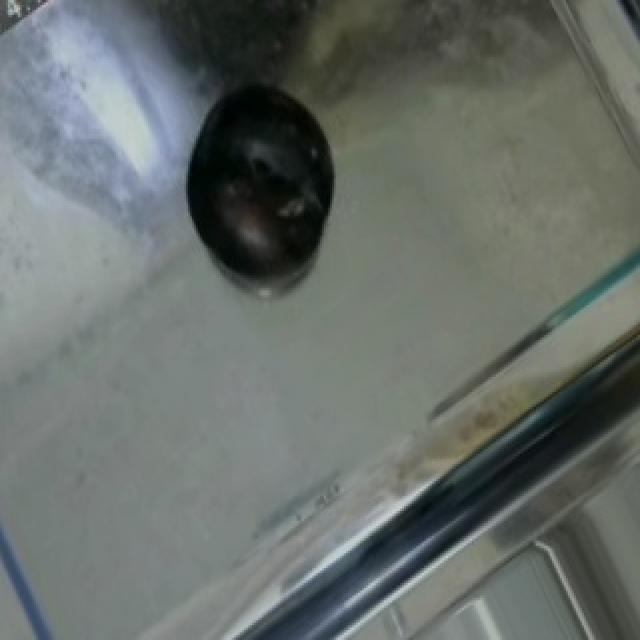Fruit: (164, 89, 362, 293)
